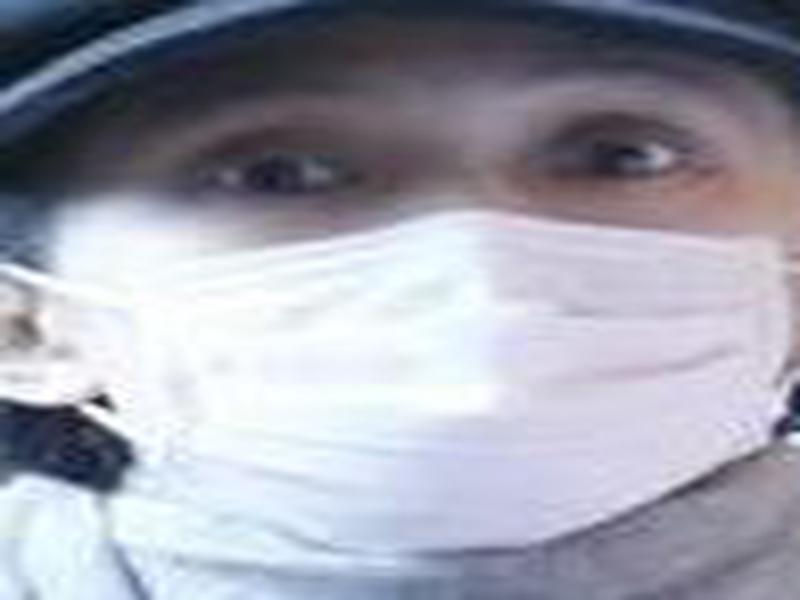with_mask: (1, 19, 795, 565)
